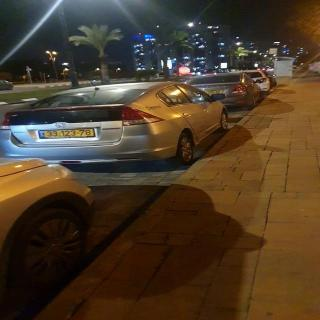LicensePlate: (44, 129, 93, 137)
